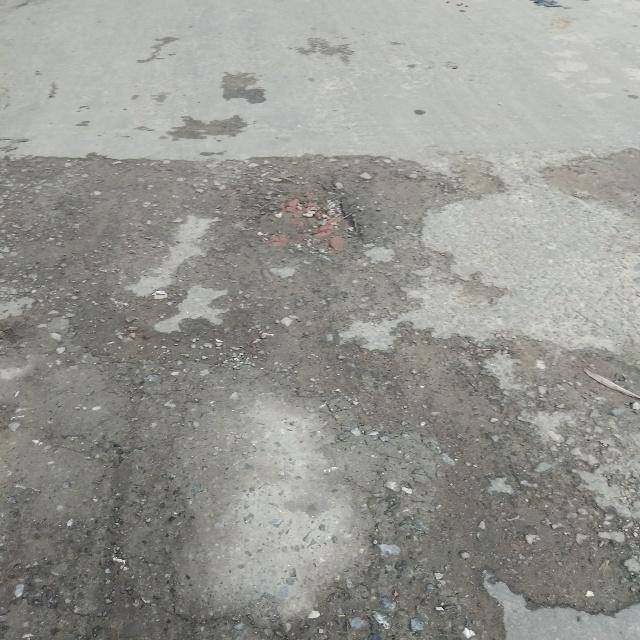Surface Erosion: (25, 129, 640, 623)
